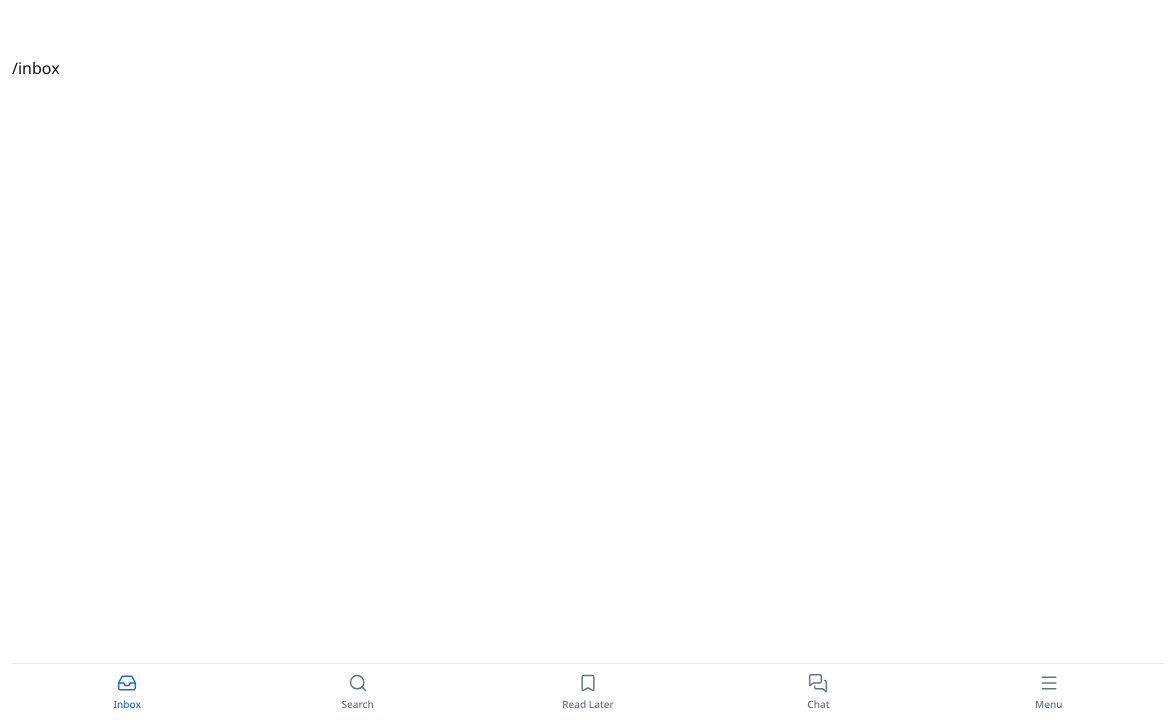
it: BottomNav › navigates when a destination tab is clicked
Click the button "Read Later". click: click(588, 692)
box: [473,664,703,719]
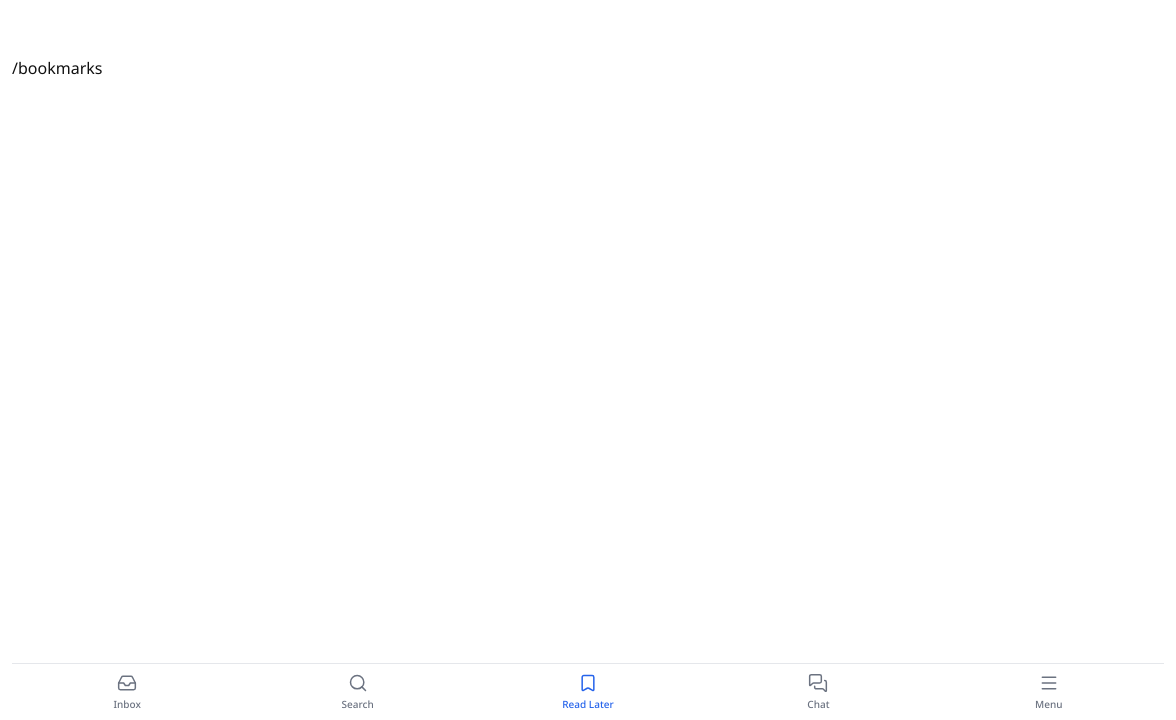
Check: the text with test id "pathname" reads "/bookmarks", box [12,57,102,79]
